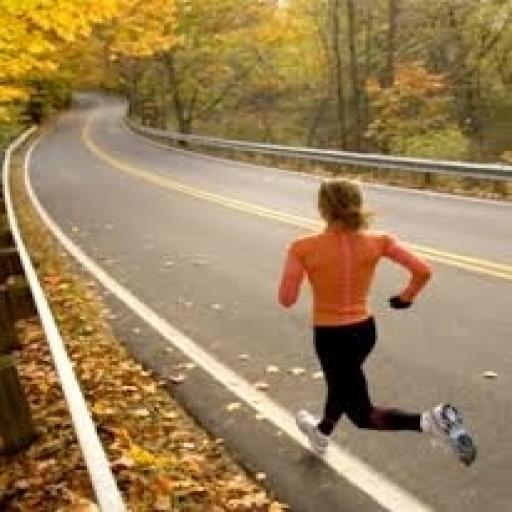running: (274, 174, 482, 472)
